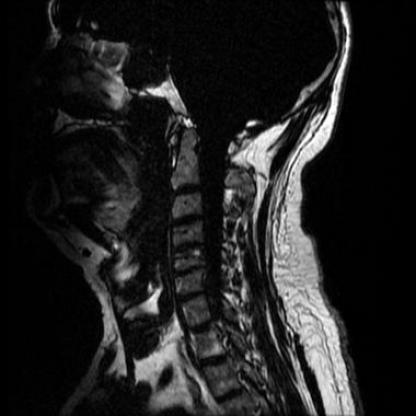Disc Protrusionrotation: (174, 287, 210, 303), (169, 239, 206, 254), (170, 264, 209, 276), (168, 213, 204, 226)
Osteophytesrotation: (174, 287, 210, 303), (169, 239, 206, 254), (168, 213, 204, 226), (170, 264, 209, 276)
